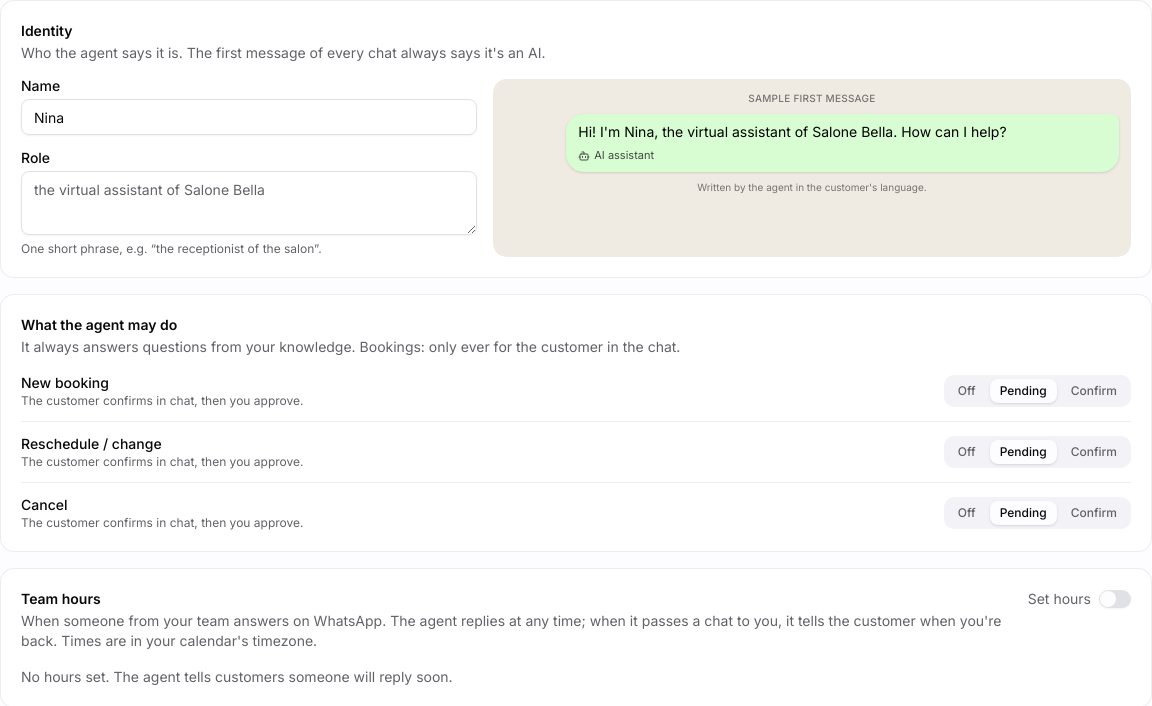
it: SettingsTab › blocks saving an empty name or a day that ends before it starts
Clear the field labelled "Name" at (249, 117), box [21,99,477,135]
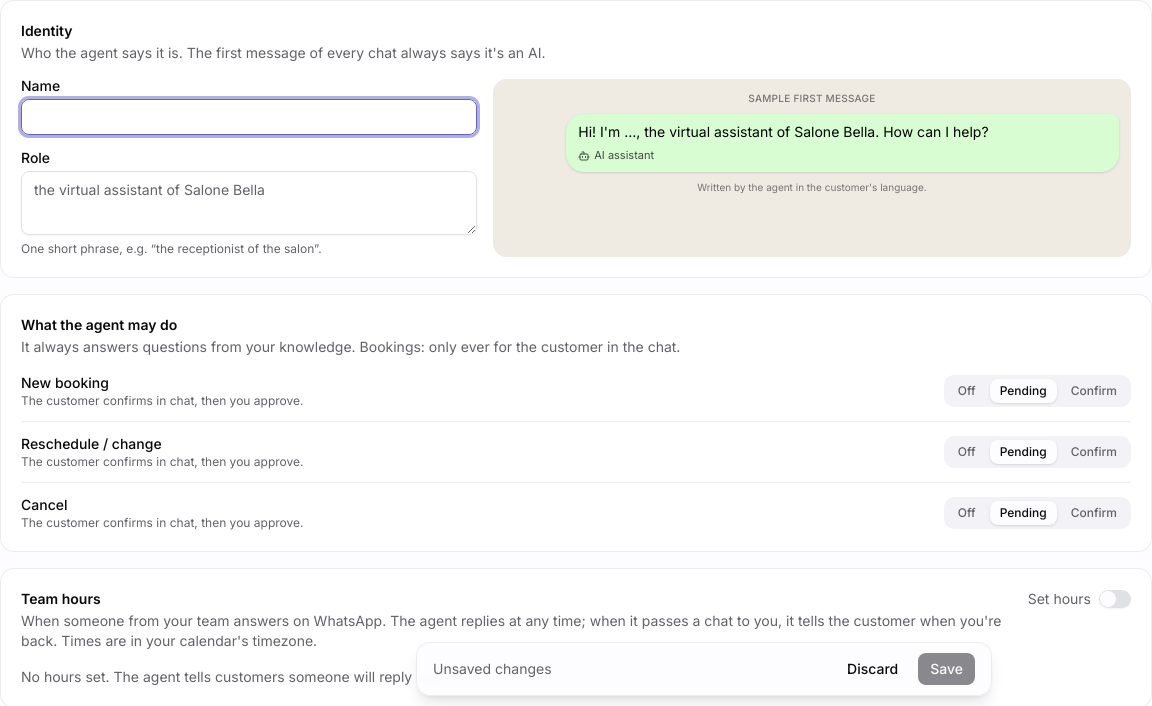
Expected: the button "Save" is disabled, [918,653,975,685]
Type "Nina2" into the field labelled "Name" at (249, 117), box [21,99,477,135]
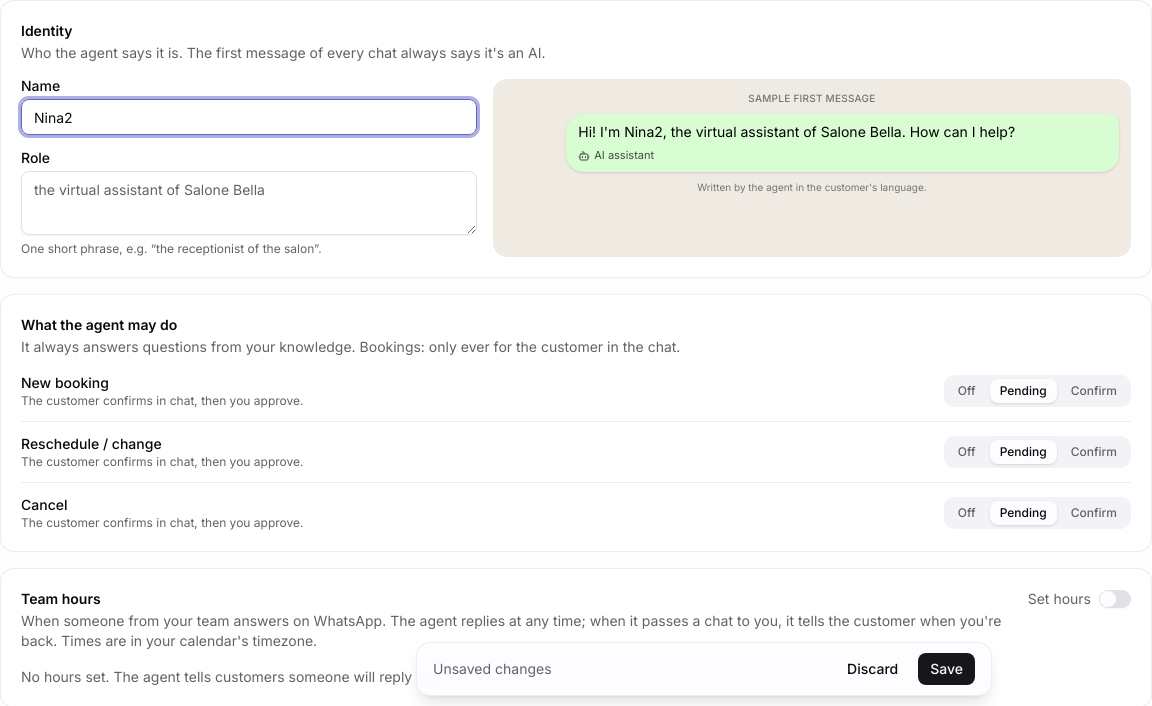
Click the switch named "Set hours" at (1115, 599), box [1099,590,1131,608]
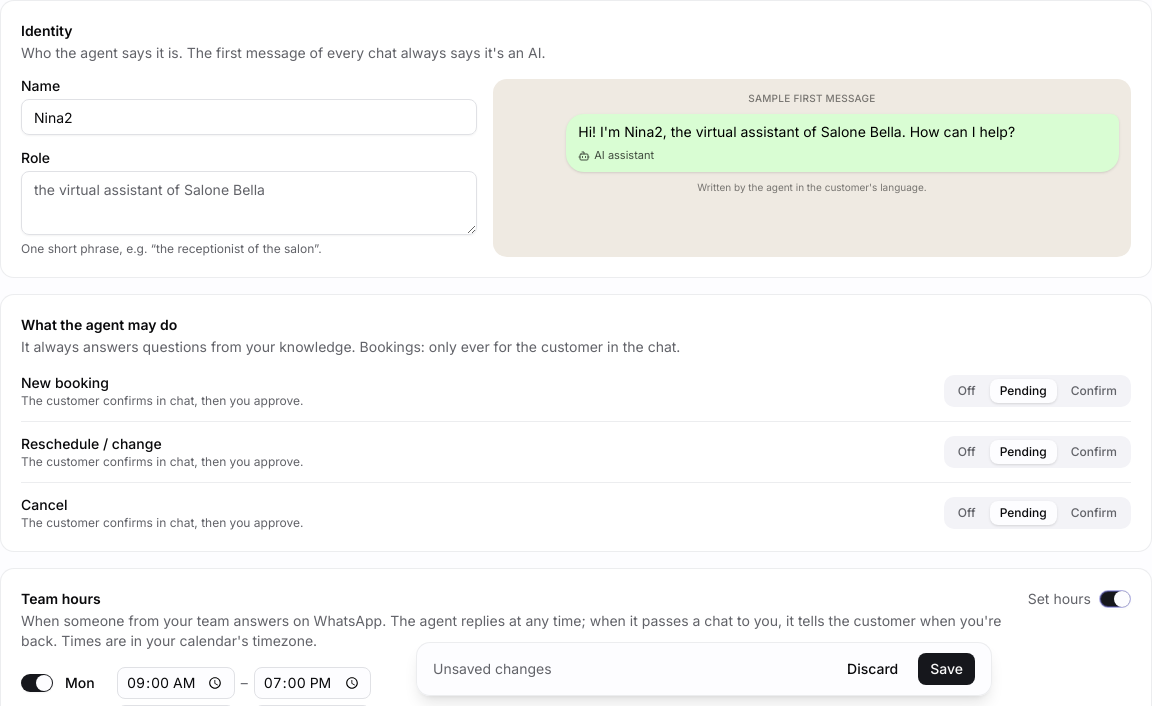
Replace the text in the time field named "Mon from" with "20:00" at (176, 683), box [117,667,235,699]
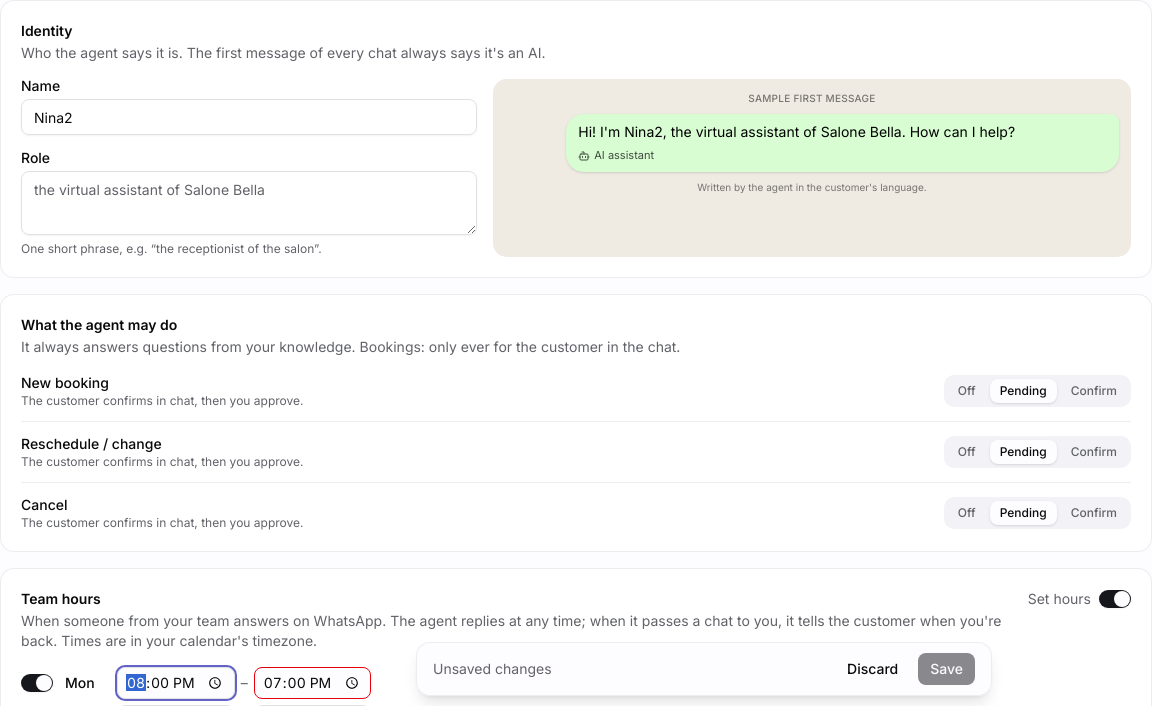
Expected: the button "Save" is disabled, [918,653,975,685]
